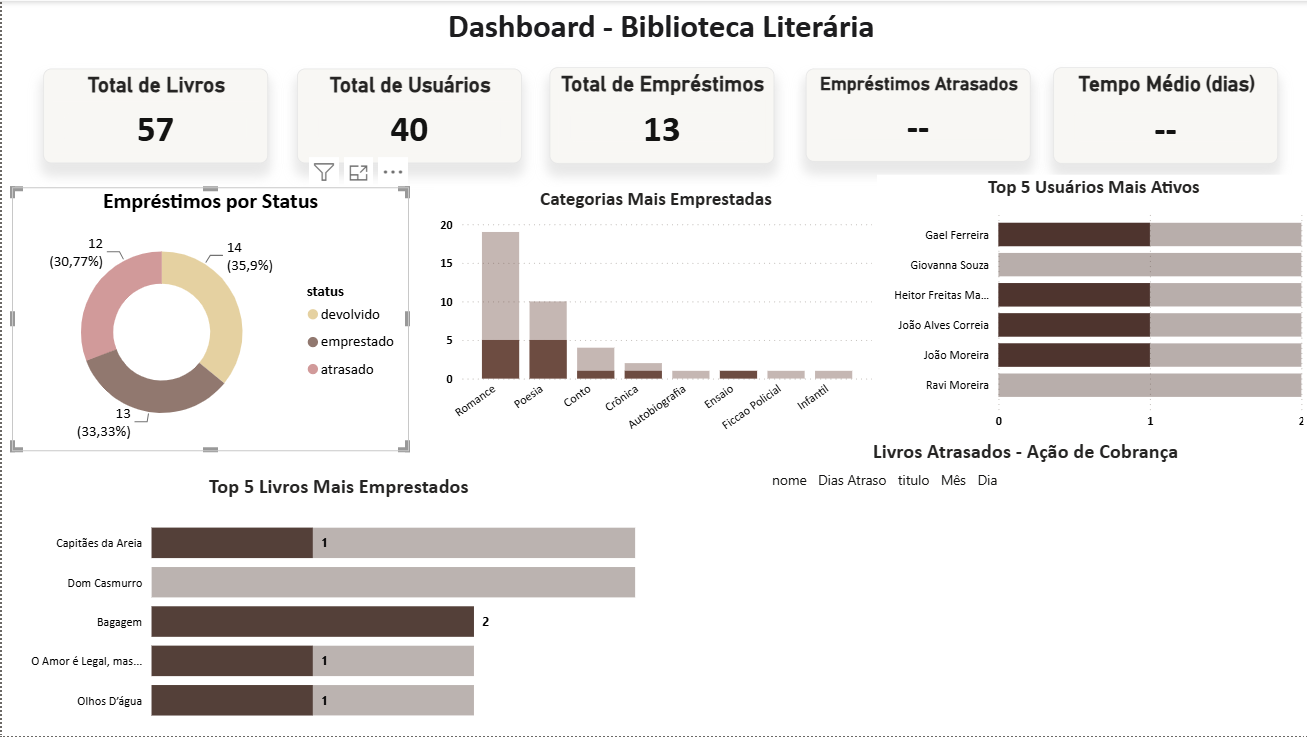

Layout of this report page (visuals, bound fields, positions):
{"tool":"powerbi","page":{"name":"Página 1","canvas":[1280,720],"ordinal":0},"visuals":[{"type":"textbox","box":[10,0,1270.3,53],"z":0},{"type":"cardVisual","title":"Total de Livros","fields":{"Data":["CountNonNull(public livros.id)"]},"box":[40,65.7,220,92.9],"z":1000},{"type":"cardVisual","title":"Total de Usuários","fields":{"Data":["CountNonNull(public usuarios.id)"]},"box":[288.6,65.7,220,92.9],"z":2000},{"type":"cardVisual","title":"Total de Empréstimos","fields":{"Data":["CountNonNull(public emprestimos.id)"]},"box":[535.7,64.3,220,94.3],"z":3000},{"type":"cardVisual","title":"Empréstimos Atrasados","fields":{"Data":["CountNonNull(public emprestimos.id)"]},"box":[785.7,65.7,220,91.4],"z":4000},{"type":"cardVisual","title":"Tempo Médio (dias)","fields":{"Data":["public emprestimos.Media Dias"]},"box":[1028.6,64.3,220,94.3],"z":5000},{"type":"donutChart","title":"Empréstimos por Status","fields":{"Category":["public emprestimos.status"],"Y":["CountNonNull(public emprestimos.id)"]},"box":[10,181.7,388.3,258.3],"z":6000},{"type":"clusteredBarChart","title":"Top 5 Livros Mais Emprestados","fields":{"Category":["public livros.titulo"],"Y":["CountNonNull(public emprestimos.id)"]},"box":[20,461.7,620,258.3],"z":7000},{"type":"clusteredColumnChart","title":"Categorias Mais Emprestadas","fields":{"Category":["public categorias.nome_categoria"],"Y":["CountNonNull(public emprestimos.id)"]},"box":[423.3,181.7,433.3,258.3],"z":8000},{"type":"clusteredBarChart","title":"Top 5 Usuários Mais Ativos","fields":{"Category":["public usuarios.nome"],"Y":["CountNonNull(public emprestimos.id)"]},"box":[856,170,424.3,258],"z":9000},{"type":"tableEx","title":"Livros Atrasados - Ação de Cobrança","fields":{"Values":["public usuarios.nome","public emprestimos.Dias Atraso","public livros.titulo","public emprestimos.data_emprestimo.Variation.Hierarquia de datas.Mês","public emprestimos.data_emprestimo.Variation.Hierarquia de datas.Dia"]},"box":[741.7,428.3,518.3,291.7],"z":10000}]}

Visuals, with their boxes in screenshot pixels (x1, y1, x2, y2), scaled from the page's 1280x720 canvas onto the 1307x737 screenshot:
textbox: [10,0,1306,54]
"Total de Livros" cardVisual: [41,67,265,162]
"Total de Usuários" cardVisual: [295,67,519,162]
"Total de Empréstimos" cardVisual: [547,66,772,162]
"Empréstimos Atrasados" cardVisual: [802,67,1027,161]
"Tempo Médio (dias)" cardVisual: [1050,66,1275,162]
"Empréstimos por Status" donutChart: [10,186,407,450]
"Top 5 Livros Mais Emprestados" clusteredBarChart: [20,473,654,736]
"Categorias Mais Emprestadas" clusteredColumnChart: [432,186,875,450]
"Top 5 Usuários Mais Ativos" clusteredBarChart: [874,174,1306,438]
"Livros Atrasados - Ação de Cobrança" tableEx: [757,438,1287,736]
